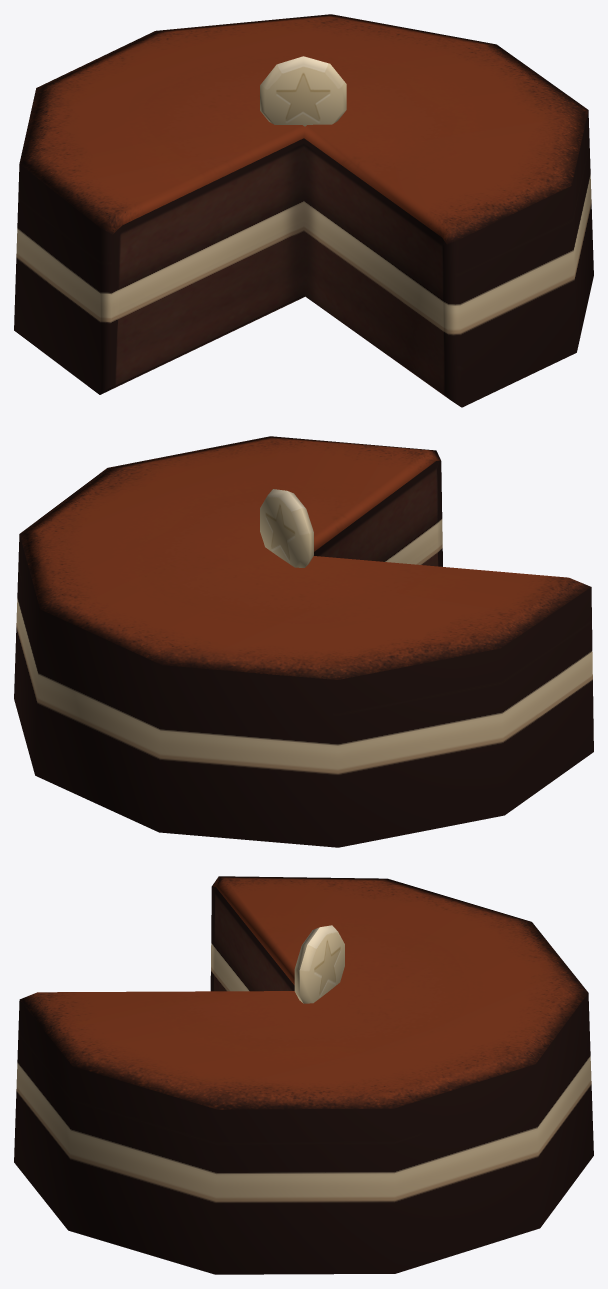
Rendered from DarkChoc_Cut.fbx.
The picture shows the model from 3 angles, top to bottom: view 1: azimuth 30°, elevation 25°; view 2: azimuth 150°, elevation 25°; view 3: azimuth 270°, elevation 25°; orthographic projection.
Parts seen in each view (by area): view 1: DarkChoc_Cut; view 2: DarkChoc_Cut; view 3: DarkChoc_Cut.
Part boxes in pixels (x1,y1,x2,y2): DarkChoc_Cut: (14, 14, 593, 407); DarkChoc_Cut: (14, 436, 593, 847); DarkChoc_Cut: (14, 876, 593, 1274).
Size of the model in its own units: 79 by 36.49 by 81.97.
